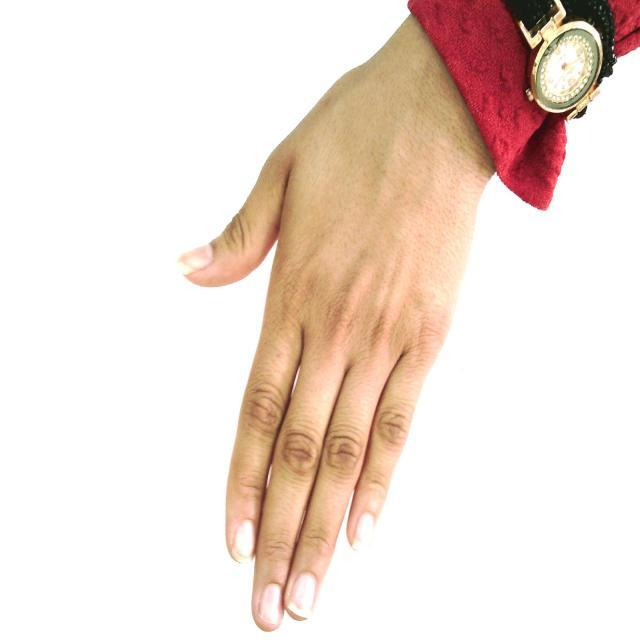Fingernail: (288, 573, 316, 619), (258, 584, 282, 629), (179, 245, 213, 272), (234, 520, 254, 562), (354, 513, 374, 548)
